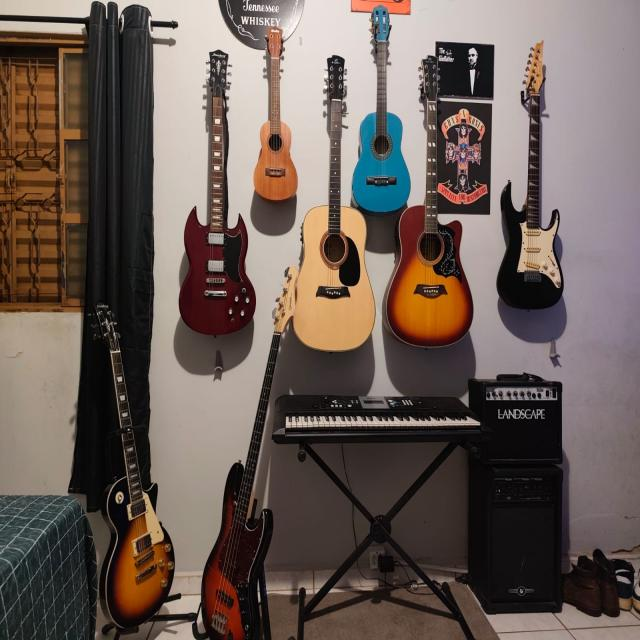acousticguitar: (384, 56, 473, 347), (293, 56, 375, 351), (352, 6, 410, 214)
bass: (202, 267, 297, 639)
guitar: (94, 303, 174, 629), (179, 50, 255, 334), (497, 42, 563, 309)
